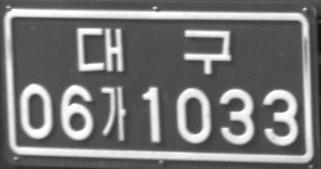0: (18, 82, 54, 139), (175, 87, 211, 144)
1: (136, 85, 169, 143)
3: (219, 87, 255, 145), (263, 88, 298, 146)
6: (59, 84, 94, 140)
가: (99, 86, 128, 140)
대구_D: (76, 26, 232, 74)
